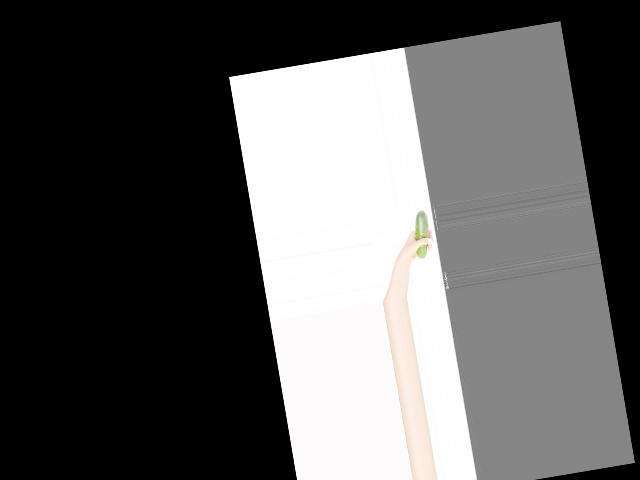cucumber: (409, 208, 434, 258)
